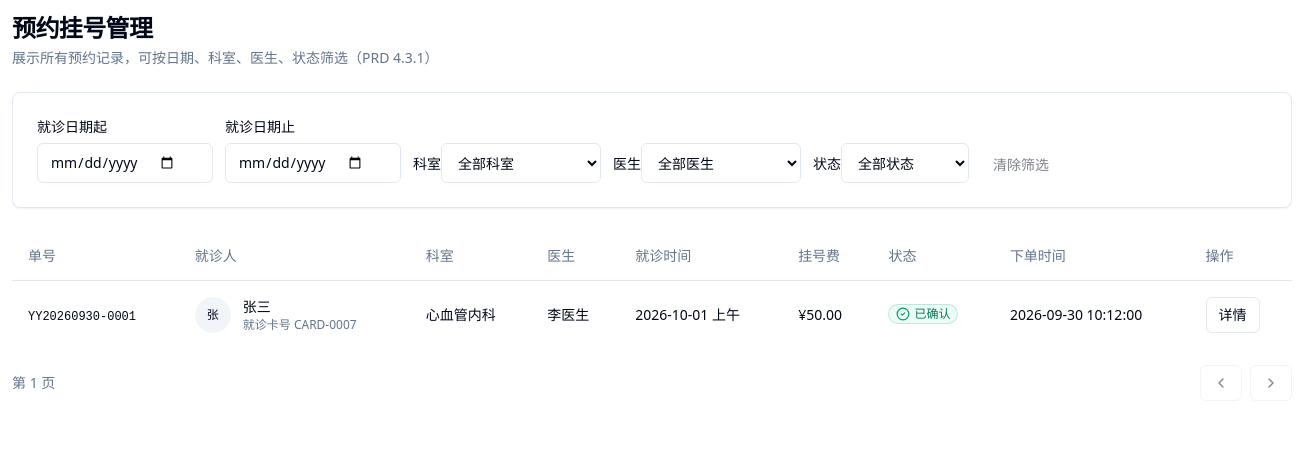
Scenario: RegistrationDetailPage › 没有退款单时说明为什么没有，而不是留一栏空白
Click the link "详情" at (1232, 314), box 1206,296 -> 1260,332
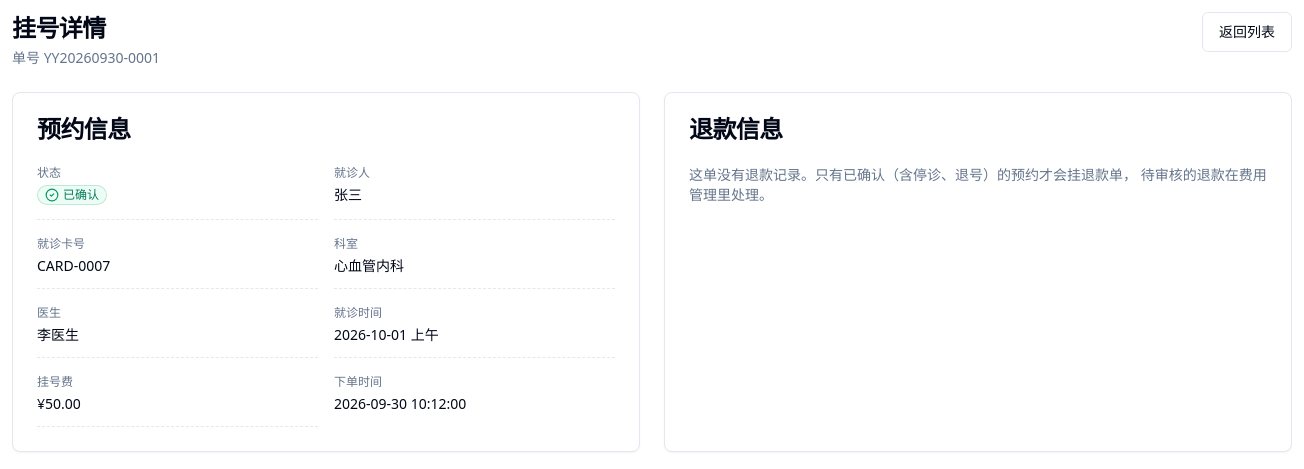
Check: the heading "预约信息" is shown, box 37,112 -> 131,145
Check: the text "这单没有退款记录。只有已确认（含停诊、退号）的预约才会挂退款单， 待审核的退款在费用管理里处理。" is shown, box 689,165 -> 1267,205
